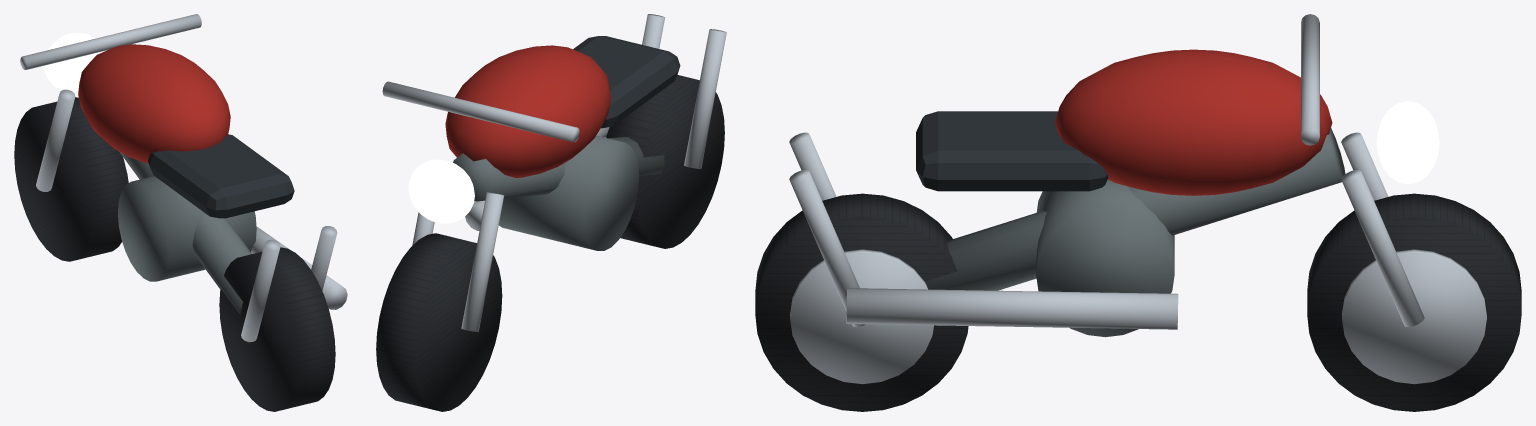
Rendered from mc_motorcycle.glb.
The picture shows the model from 3 angles, left to right: view 1: azimuth 30°, elevation 25°; view 2: azimuth 150°, elevation 25°; view 3: azimuth 270°, elevation 25°; orthographic projection. The views are drawn at different scales.
Parts seen in each view (by area): view 1: mc_motorcycle__Geometry; view 2: mc_motorcycle__Geometry; view 3: mc_motorcycle__Geometry.
Part boxes in pixels (bbox=[...]): mc_motorcycle__Geometry: bbox=[14, 14, 347, 411]; mc_motorcycle__Geometry: bbox=[376, 14, 726, 411]; mc_motorcycle__Geometry: bbox=[755, 14, 1521, 411].
Size of the model in its own units: 0.86 by 1.19 by 2.43.
Materials: 6 (1 with a texture image).
